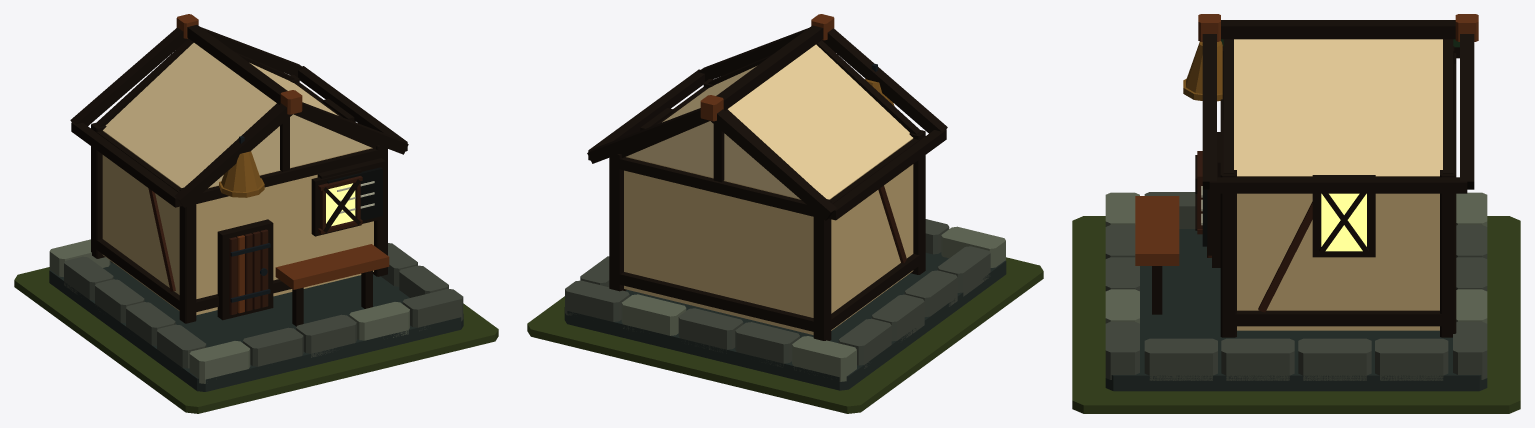
The model's file is schoolroom_t1.glb.
The picture shows the model from 3 angles, left to right: view 1: azimuth 30°, elevation 25°; view 2: azimuth 150°, elevation 25°; view 3: azimuth 270°, elevation 25°; orthographic projection. The views are drawn at different scales.
Parts seen in each view (by area): view 1: MMR | schoolroom | T01 Architecture.001, MMR | schoolroom | Tier 01 Ground.001; view 2: MMR | schoolroom | T01 Architecture.001, MMR | schoolroom | Tier 01 Ground.001; view 3: MMR | schoolroom | T01 Architecture.001, MMR | schoolroom | Tier 01 Ground.001.
Boxes of the visible parts, left/top/right/bottom form: MMR | schoolroom | T01 Architecture.001: left=49, top=14, right=463, bottom=391; MMR | schoolroom | Tier 01 Ground.001: left=14, top=267, right=498, bottom=413; MMR | schoolroom | T01 Architecture.001: left=564, top=14, right=1006, bottom=390; MMR | schoolroom | Tier 01 Ground.001: left=527, top=257, right=1043, bottom=413; MMR | schoolroom | T01 Architecture.001: left=1105, top=14, right=1487, bottom=391; MMR | schoolroom | Tier 01 Ground.001: left=1072, top=216, right=1520, bottom=413.
Bounding box in the file's own units: 2.35 × 1.74 × 2.35.
Materials: 2 (1 with a texture image).
